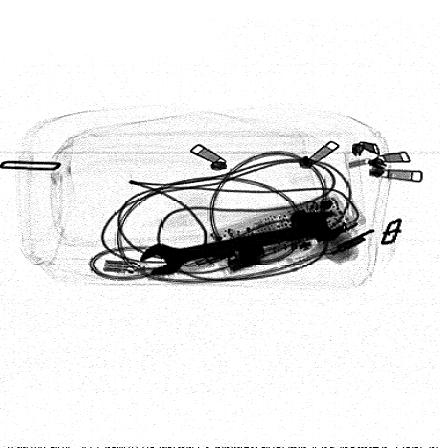Wrench: (139, 210, 347, 276)
